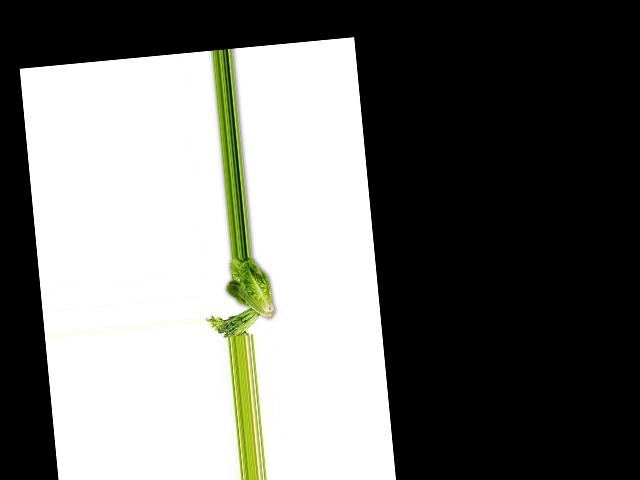lettuce: (218, 254, 273, 325)
